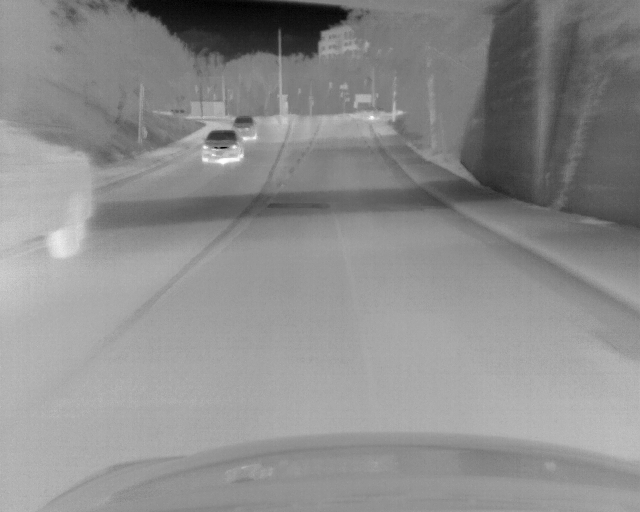car: (1, 120, 94, 264), (201, 130, 243, 165), (234, 115, 255, 141)
